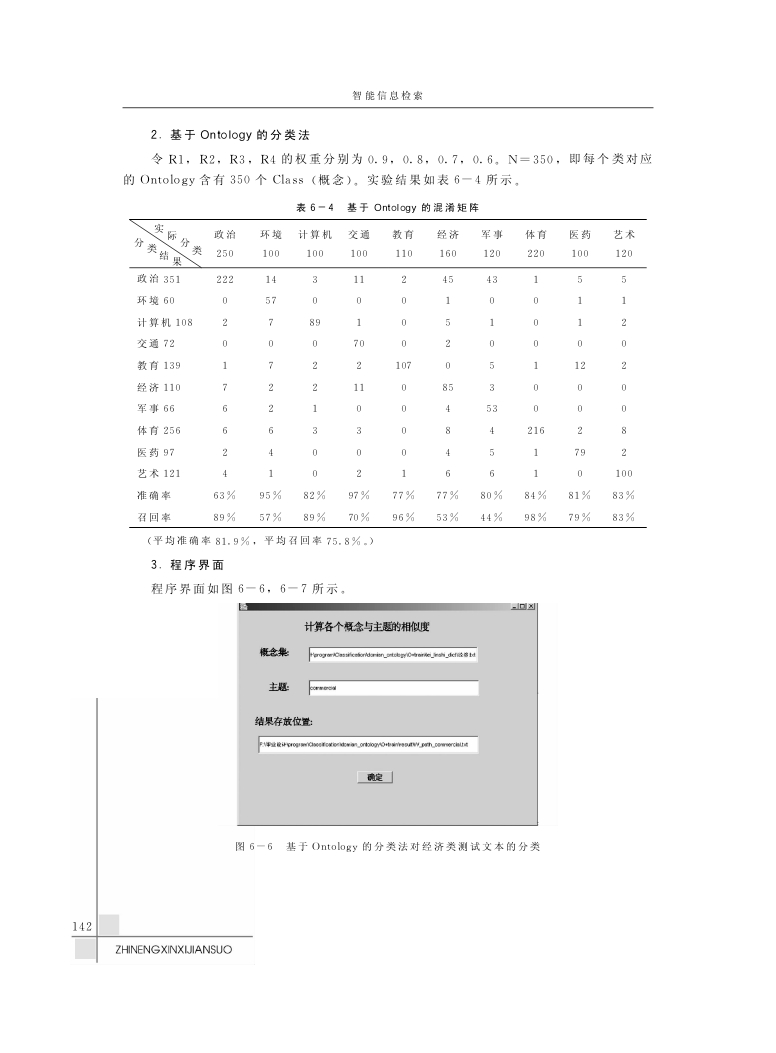table: (129, 219, 646, 529)
